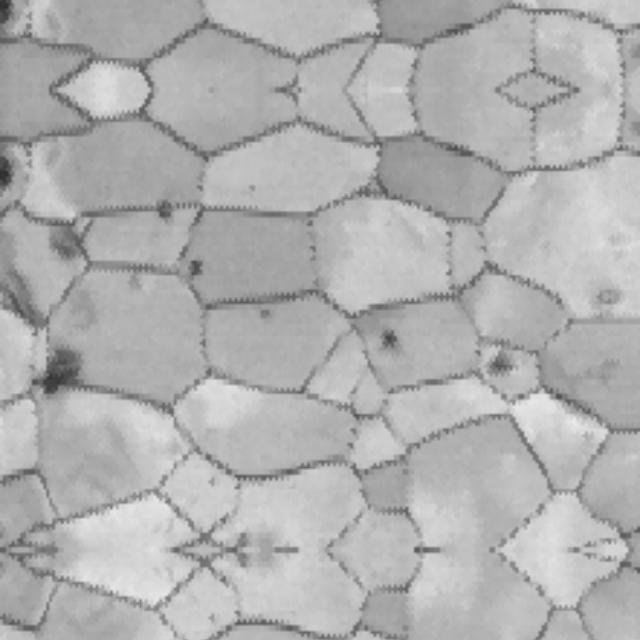good_void: (26, 345, 95, 399), (3, 262, 43, 332), (41, 224, 83, 268), (587, 282, 627, 316), (234, 524, 286, 550), (234, 552, 286, 578), (111, 268, 150, 297), (0, 152, 16, 196), (373, 325, 398, 352), (489, 353, 513, 380), (156, 198, 174, 224), (246, 179, 266, 200), (253, 308, 275, 324), (189, 261, 202, 280)
